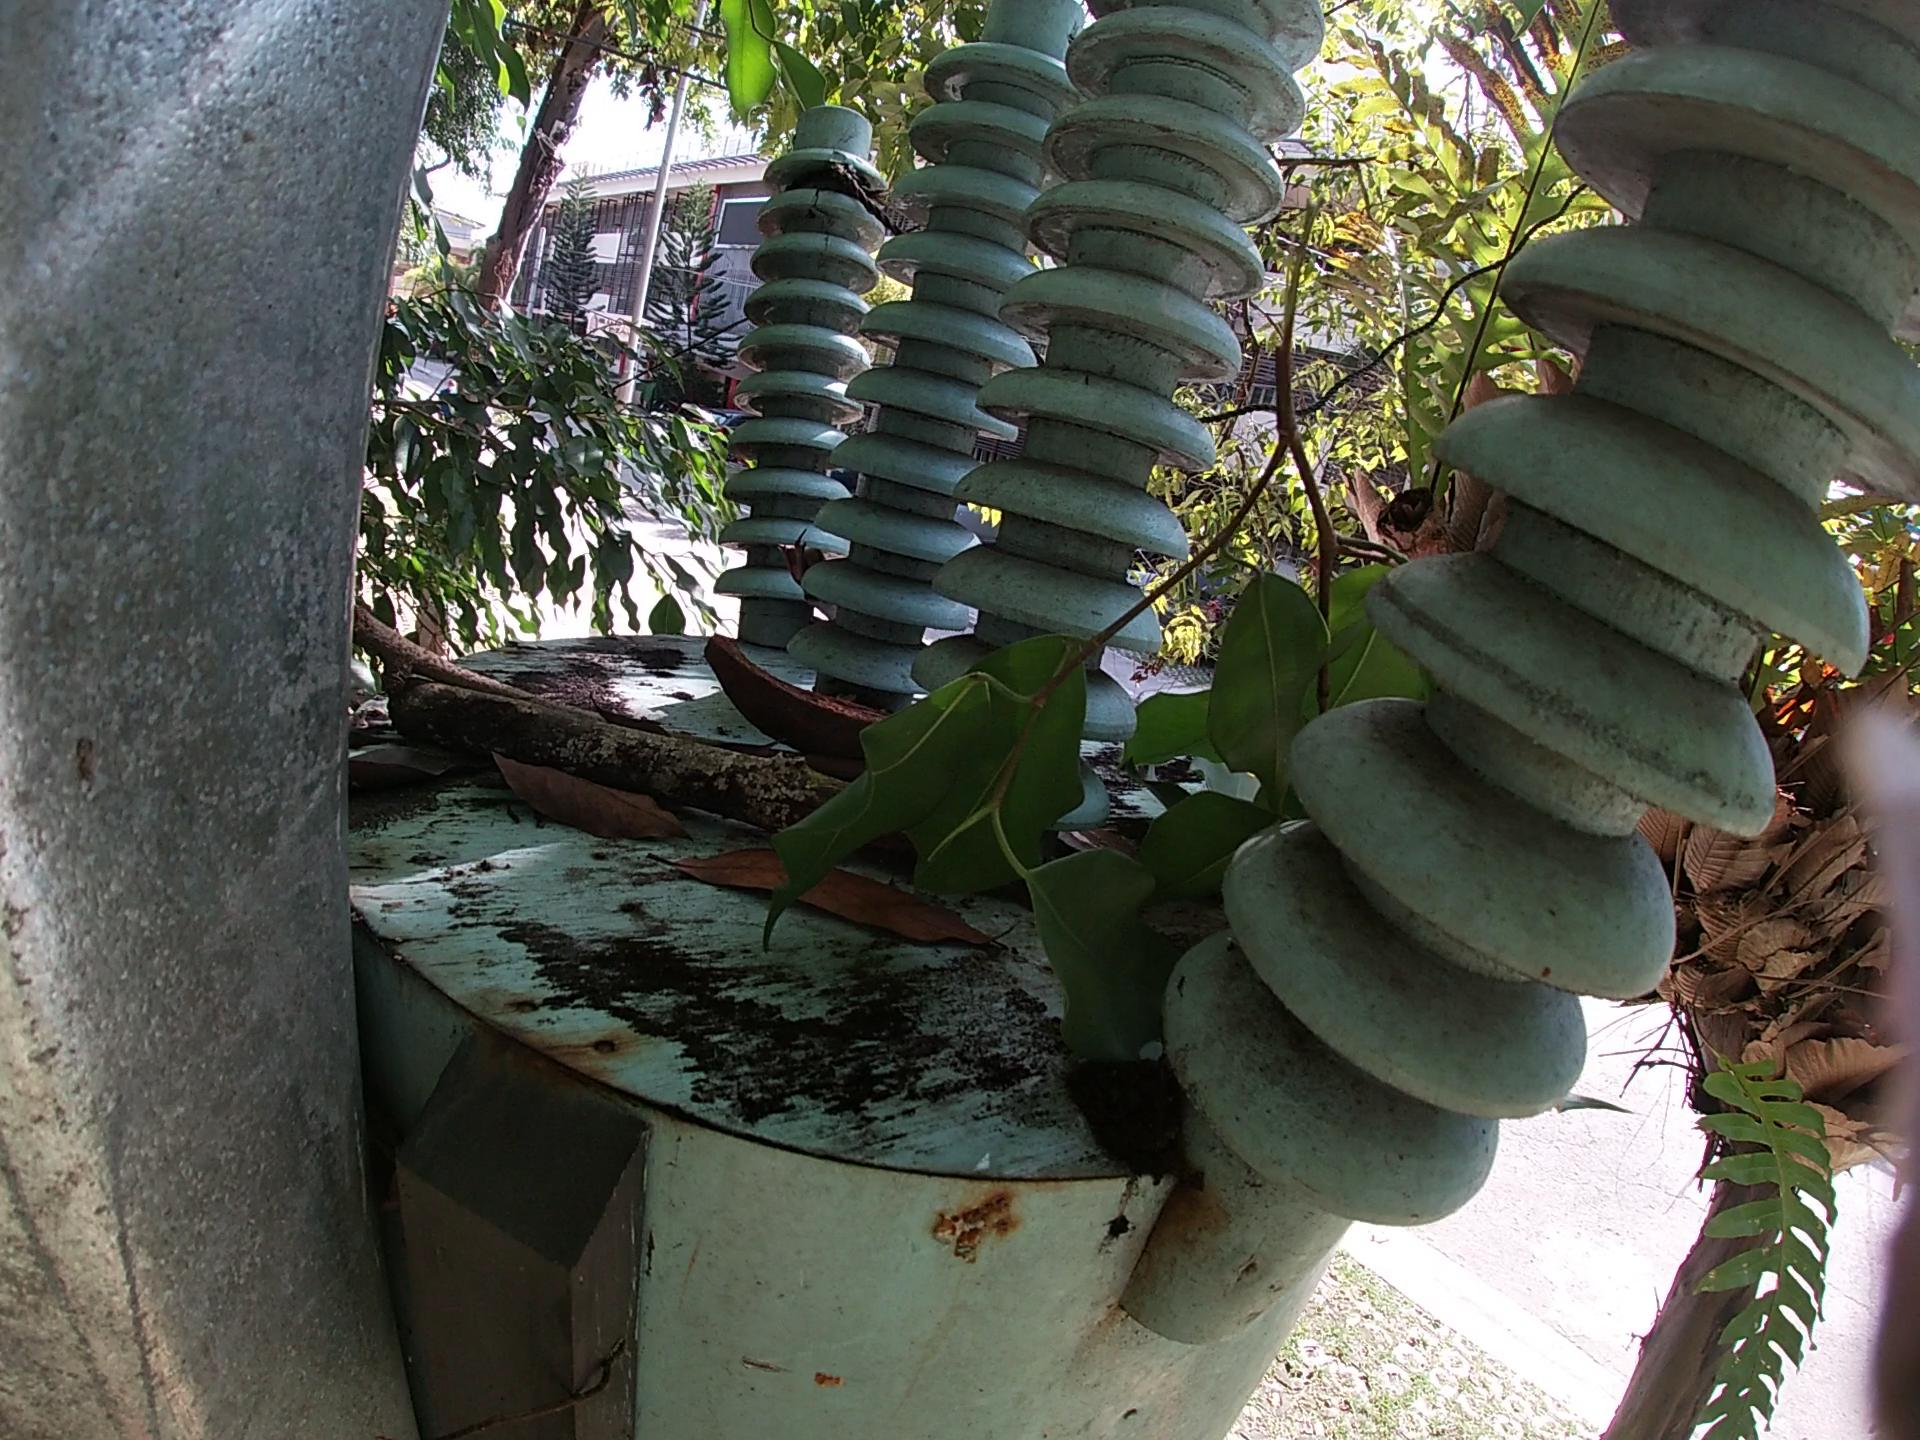branch with leaves: (803, 197, 1386, 1216)
leaf: (661, 846, 1023, 961), (464, 765, 705, 850), (322, 732, 432, 814), (1538, 1075, 1634, 1134)
mahogany fruit: (700, 632, 892, 781)
tree branch: (384, 675, 824, 815), (352, 608, 543, 705)
